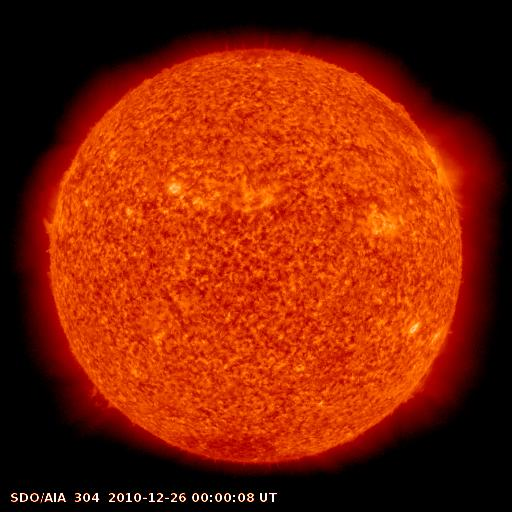prominence: (22, 169, 64, 256), (62, 370, 127, 419)
